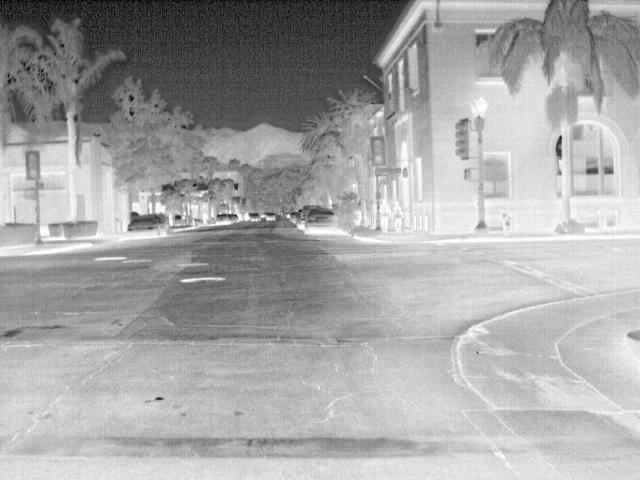car: (125, 214, 168, 238), (303, 206, 341, 229), (296, 204, 326, 230), (215, 213, 231, 224), (247, 211, 260, 222), (264, 211, 276, 221)
person: (389, 198, 405, 232), (378, 198, 393, 233)
